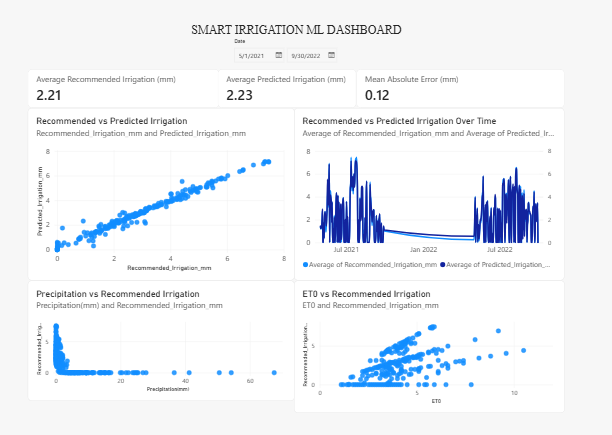

This screenshot's page, from the dashboard's own definition file:
{"tool":"powerbi","page":{"name":"Page 1","canvas":[1920,1080],"ordinal":0},"visuals":[{"type":"cardVisual","fields":{"Data":["Avg(powerbi_irrigation_dashboard.Recommended_Irrigation_mm)"]},"box":[426.9,182.9,383.3,77.8],"z":0},{"type":"cardVisual","fields":{"Data":["Avg(powerbi_irrigation_dashboard.Predicted_Irrigation_mm)"]},"box":[806.9,182.9,277.8,77.8],"z":1000},{"type":"cardVisual","fields":{"Data":["Avg(powerbi_irrigation_dashboard.Absolute_Error_mm)"]},"box":[1084.7,182.9,416.7,77.8],"z":2000},{"type":"lineChart","title":"Recommended vs Predicted Irrigation Over Time","fields":{"Category":["powerbi_irrigation_dashboard.Date"],"Y":["Avg(powerbi_irrigation_dashboard.Recommended_Irrigation_mm)"],"Y2":["Avg(powerbi_irrigation_dashboard.Predicted_Irrigation_mm)"]},"box":[960.2,260.7,541.1,344.4],"z":3000},{"type":"scatterChart","title":"Precipitation vs Recommended Irrigation","fields":{"X":["powerbi_irrigation_dashboard.Precipitation(mm)"],"Y":["powerbi_irrigation_dashboard.Recommended_Irrigation_mm"]},"box":[426.9,605.1,533.3,241.1],"z":4000},{"type":"scatterChart","title":"Recommended vs Predicted Irrigation","fields":{"X":["powerbi_irrigation_dashboard.Recommended_Irrigation_mm"],"Y":["powerbi_irrigation_dashboard.Predicted_Irrigation_mm"]},"box":[426.9,260.7,533.3,344.4],"z":5000},{"type":"scatterChart","title":"ET0 vs Recommended Irrigation","fields":{"X":["powerbi_irrigation_dashboard.ET0"],"Y":["powerbi_irrigation_dashboard.Recommended_Irrigation_mm"]},"box":[960,605,541.7,265],"z":6000},{"type":"textbox","box":[499,870,371,210],"z":7000},{"type":"textbox","box":[36.7,0,307.8,40],"z":8000},{"type":"textbox","box":[317,0,212,150],"z":9000},{"type":"textbox","box":[426.7,90,1075,86.7],"z":10000},{"type":"slicer","fields":{"Values":["powerbi_irrigation_dashboard.Date"]},"box":[833.3,120,251.4,57.1],"z":11000}]}

Visuals, with their boxes on the page's 1920x1080 design canvas (x1, y1, x2, y2). These are canvas units, not pixel positions in the 612x435 screenshot, which may show the page scaled, cropped or inside an application window:
cardVisual - Avg(powerbi_irrigation_dashboard.Recommended_Irrigation_mm): region(427, 183, 810, 261)
cardVisual - Avg(powerbi_irrigation_dashboard.Predicted_Irrigation_mm): region(807, 183, 1085, 261)
cardVisual - Avg(powerbi_irrigation_dashboard.Absolute_Error_mm): region(1085, 183, 1501, 261)
"Recommended vs Predicted Irrigation Over Time" lineChart: region(960, 261, 1501, 605)
"Precipitation vs Recommended Irrigation" scatterChart: region(427, 605, 960, 846)
"Recommended vs Predicted Irrigation" scatterChart: region(427, 261, 960, 605)
"ET0 vs Recommended Irrigation" scatterChart: region(960, 605, 1502, 870)
textbox: region(499, 870, 870, 1080)
textbox: region(37, 0, 344, 40)
textbox: region(317, 0, 529, 150)
textbox: region(427, 90, 1502, 177)
slicer - powerbi_irrigation_dashboard.Date: region(833, 120, 1085, 177)
